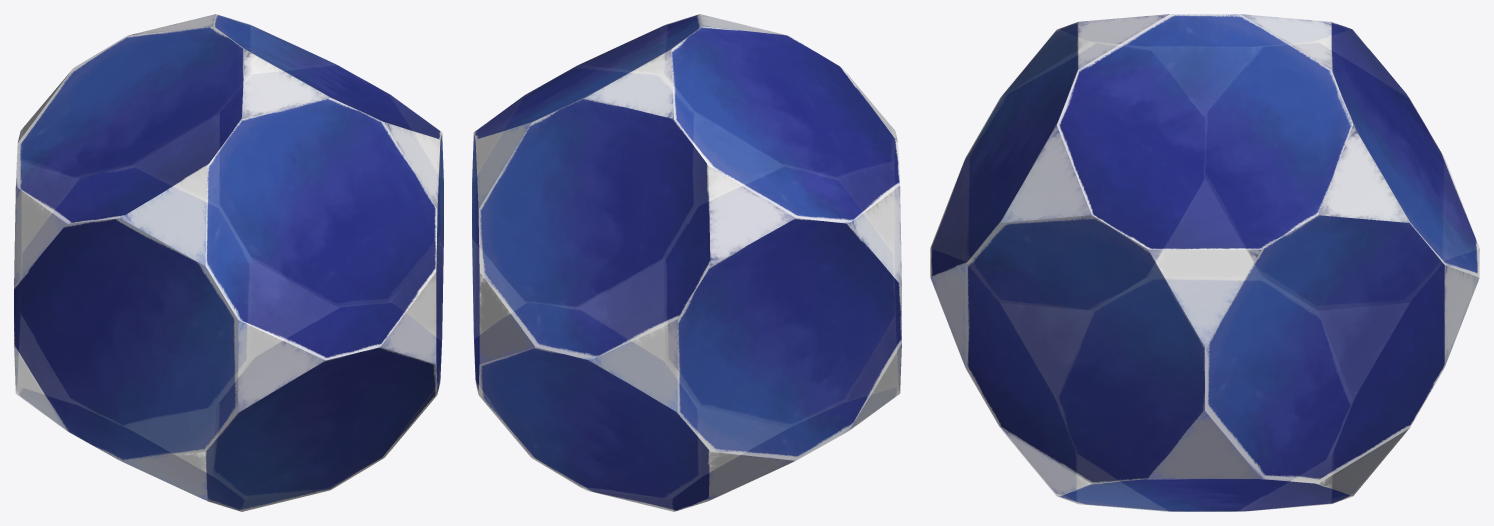
File: crystal gem2.fbx
3 renders of one model, left to right at view 1: azimuth 30°, elevation 25°; view 2: azimuth 150°, elevation 25°; view 3: azimuth 270°, elevation 25°, orthographic. The views are drawn at different scales.
Parts seen in each view (by area): view 1: Solid.001; view 2: Solid.001; view 3: Solid.001.
Part boxes in pixels (x1,y1,x2,y2): Solid.001: [14, 14, 443, 511]; Solid.001: [472, 14, 901, 511]; Solid.001: [930, 14, 1479, 511].
Size of the model in its own units: 321 by 321 by 321.
Materials: 1 (1 with a texture image).
